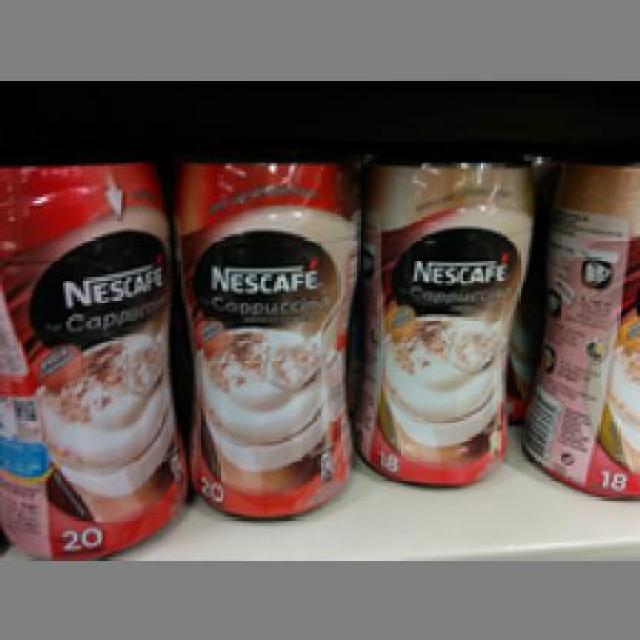Coffee: (0, 152, 183, 558), (168, 148, 364, 518), (354, 156, 534, 489), (520, 162, 637, 498)
